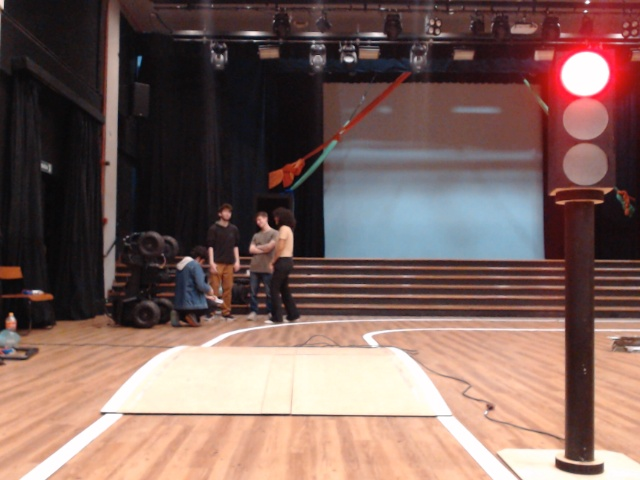SEMAFORO: (532, 36, 636, 221)
